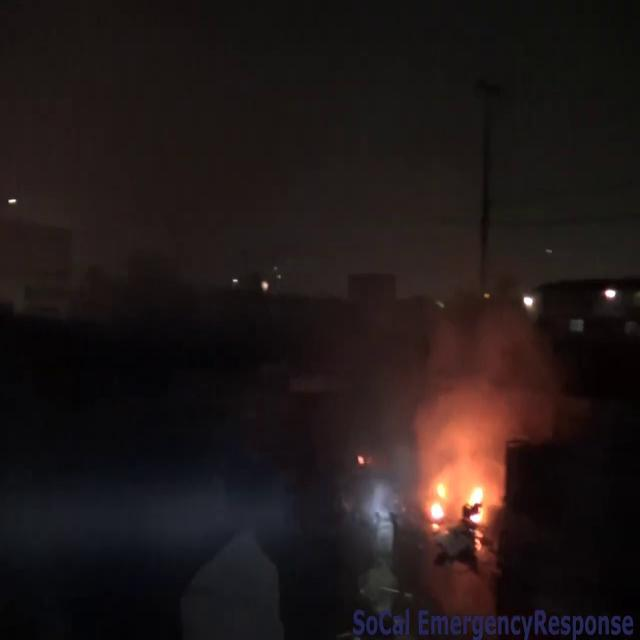Fire: (422, 449, 494, 526)
Smoke: (403, 230, 568, 464)
